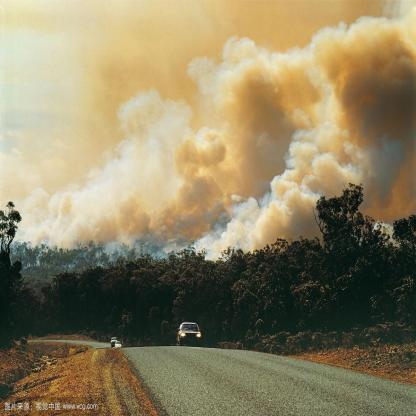smoke: (218, 4, 304, 219), (72, 128, 214, 220), (304, 3, 410, 124), (81, 14, 178, 113), (312, 135, 411, 180)
